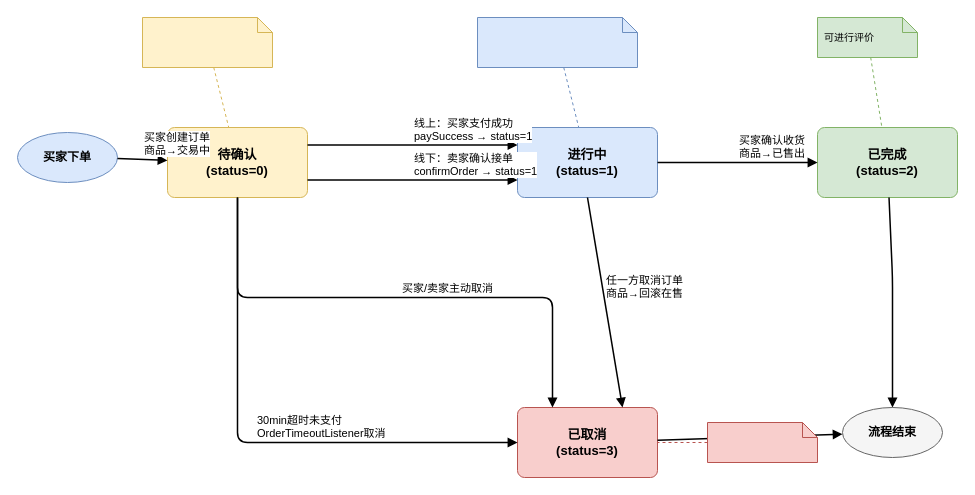
This 975x495 diagram has some shape labels left out. The centre of each missing label's shape, as x and y in pixels:
"分布式锁保护 payment_status=0" belongs at point (207, 42).
"商品释放回在售" belongs at point (762, 442).
"线上：payment_status=1 线下：payment_status=1" belongs at point (557, 42).
